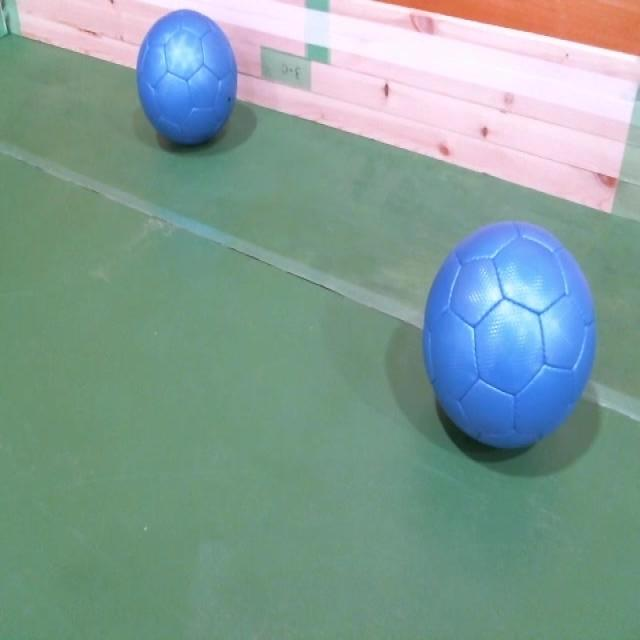blue_ball: (424, 223, 594, 448), (138, 10, 238, 147)
